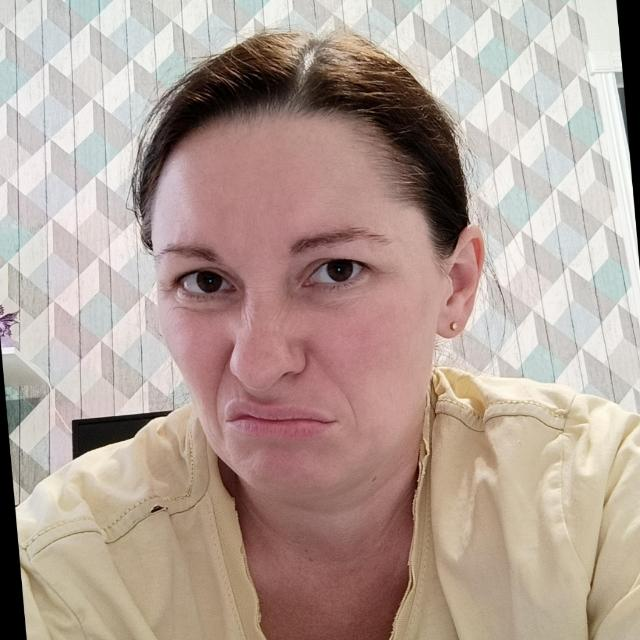Disgust: (104, 115, 484, 537)
